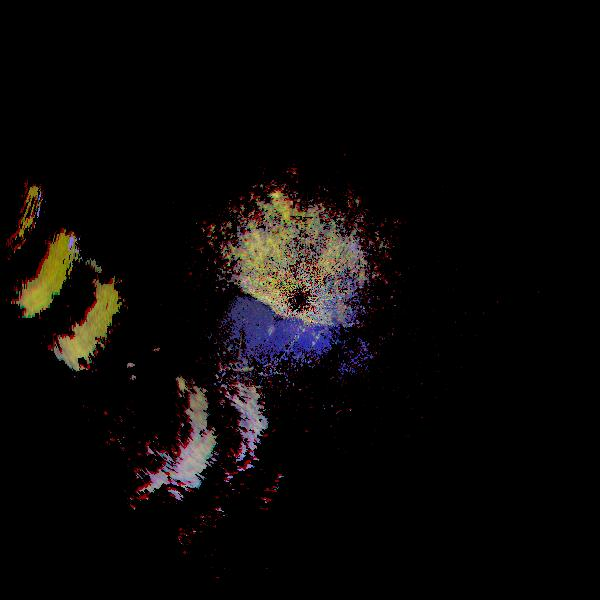roost: (56, 345, 233, 522), (117, 336, 285, 504)
